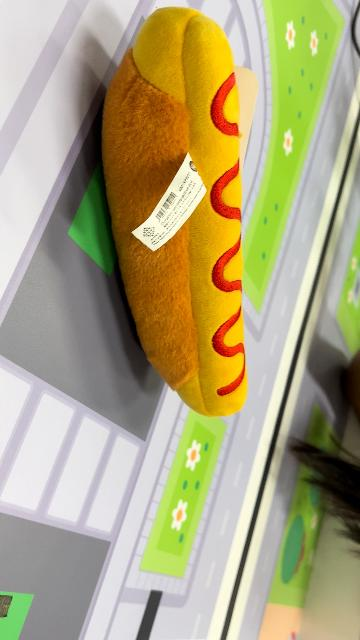hotdog: (101, 6, 251, 418)
